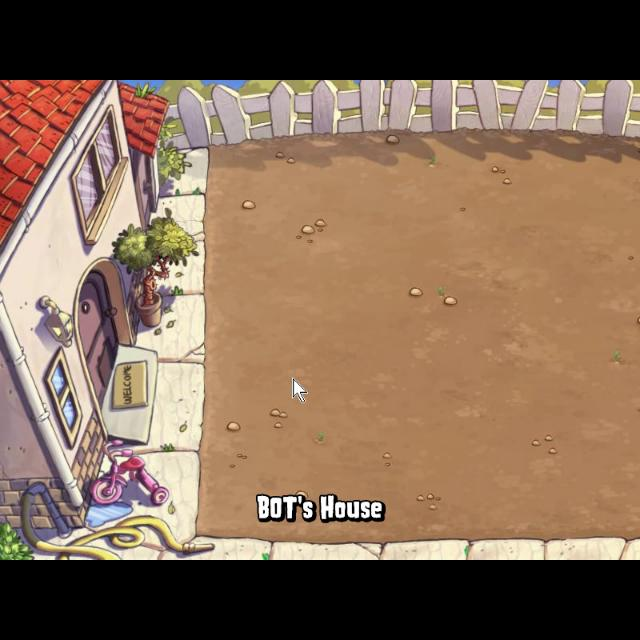House Name: (253, 489, 389, 529)
